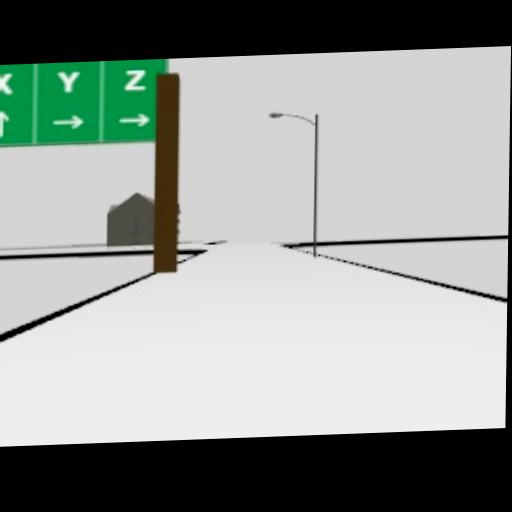Right: (118, 111, 151, 129), (51, 115, 84, 130)
Straight: (0, 109, 8, 137)
X: (0, 71, 13, 94)
Y: (56, 68, 81, 92)
Z: (123, 68, 146, 90)
